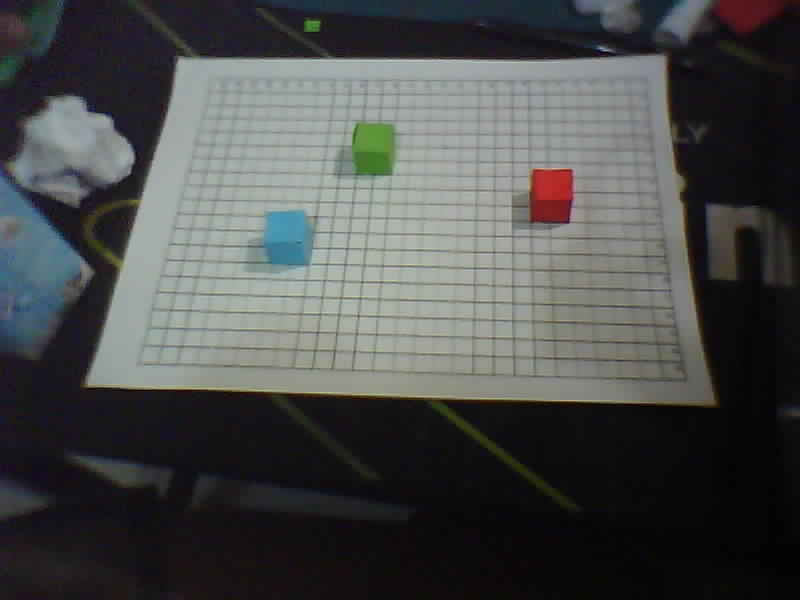blue(2x2x2): (252, 202, 325, 274)
green(2x2x2): (343, 117, 406, 186)
red(2x2x2): (510, 167, 593, 227)
